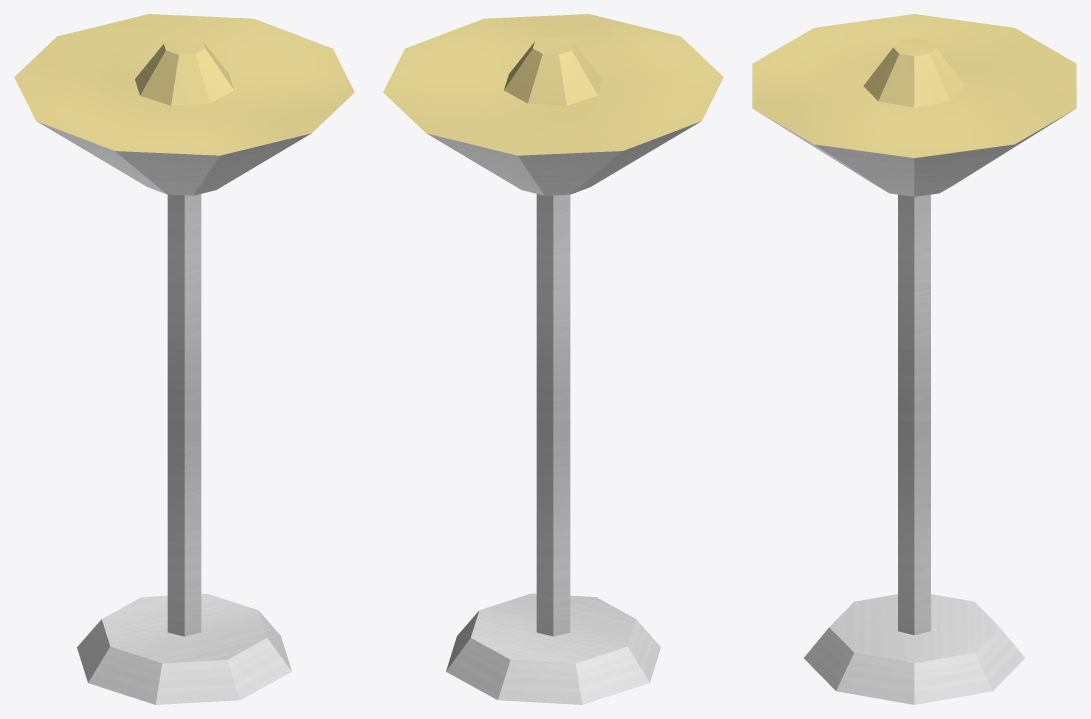
File: sun_lamp.obj
The picture shows the model from 3 angles, left to right: view 1: azimuth 30°, elevation 25°; view 2: azimuth 150°, elevation 25°; view 3: azimuth 270°, elevation 25°; orthographic projection.
Parts seen in each view (by area): view 1: sun_lamp; view 2: sun_lamp; view 3: sun_lamp.
Part boxes in pixels (x1,y1,x2,y2): sun_lamp: (14, 14, 354, 704); sun_lamp: (383, 14, 723, 704); sun_lamp: (752, 14, 1076, 704).
Size of the model in its own units: 0.8 by 1.58 by 0.7608.
